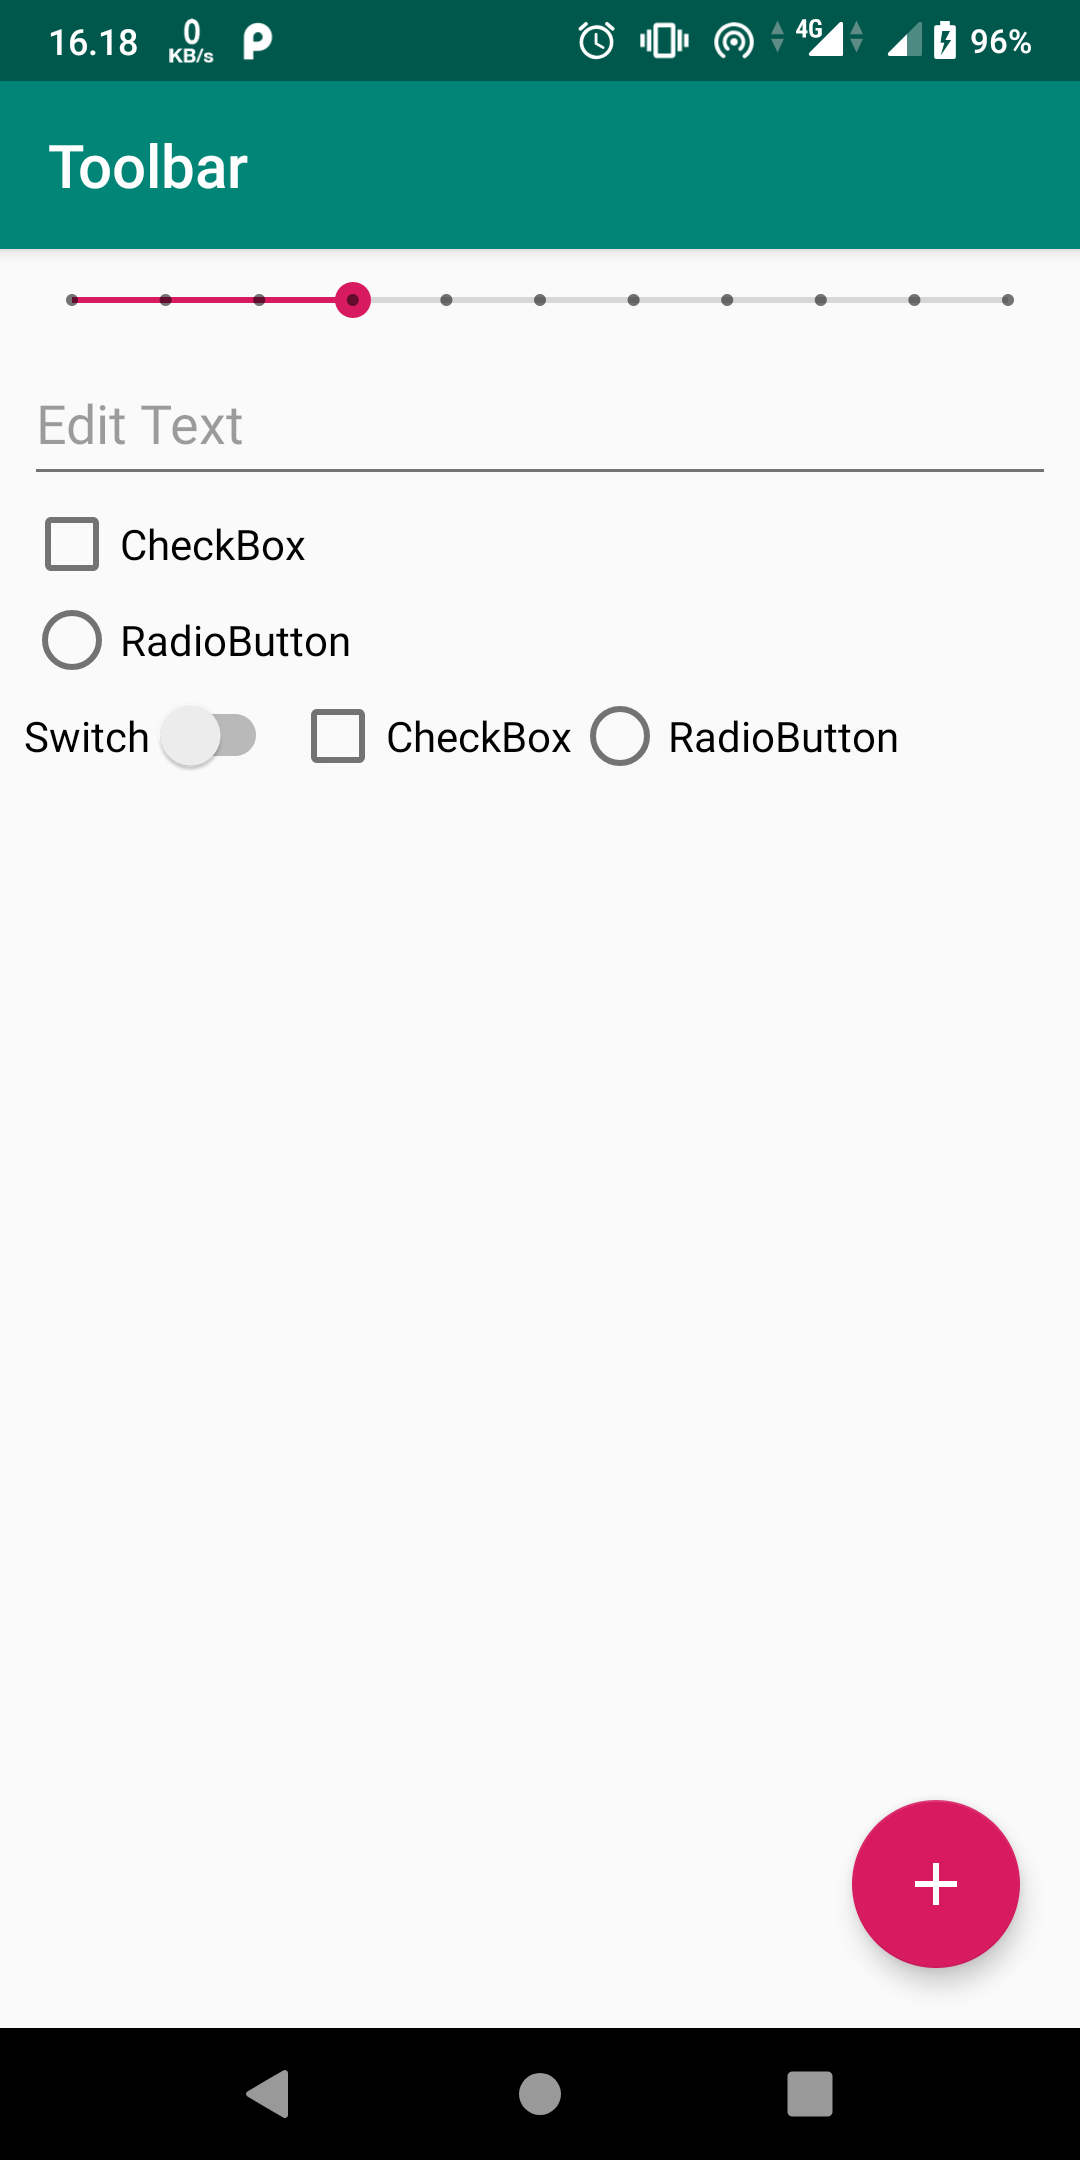checkBox: (36, 506, 317, 583), (304, 698, 579, 770)
editText: (26, 395, 1059, 490)
floatingButton: (846, 1796, 1030, 1973)
radioButton: (33, 596, 355, 683), (588, 698, 904, 777)
slider: (52, 277, 1030, 325)
switch: (17, 703, 264, 770)
toolbar: (4, 83, 1080, 247)
